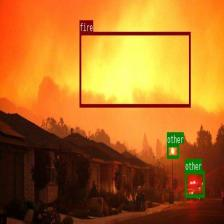fire: (79, 32, 190, 106)
